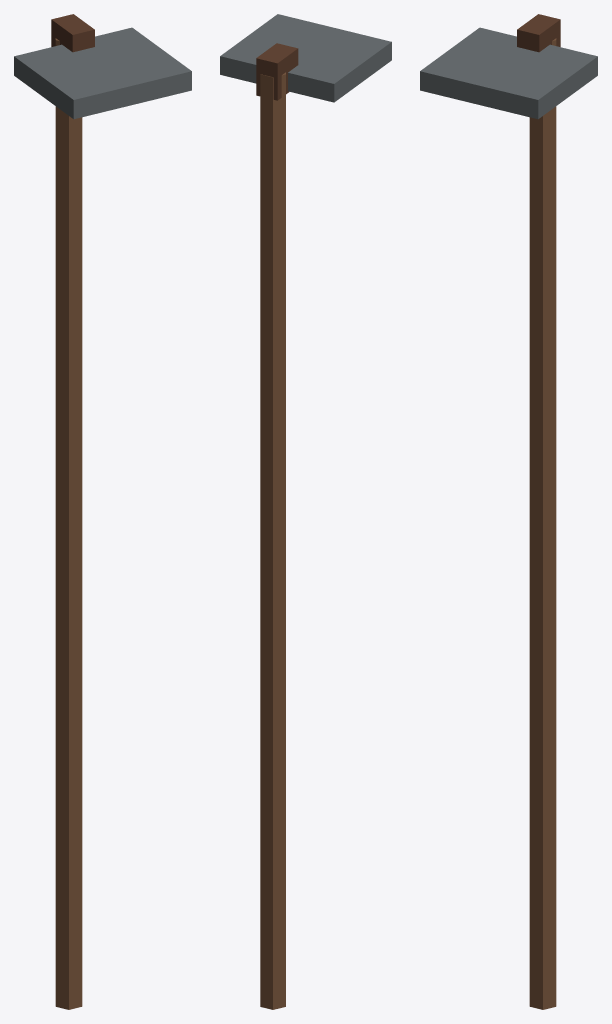
Rendered from hand_hoe.glb.
The picture shows the model from 3 angles, left to right: view 1: azimuth 30°, elevation 25°; view 2: azimuth 150°, elevation 25°; view 3: azimuth 330°, elevation 25°; orthographic projection. The views are drawn at different scales.
Parts seen in each view (by area): view 1: room_hand_hoe; view 2: room_hand_hoe; view 3: room_hand_hoe.
Part boxes in pixels (x1,y1,x2,y2): room_hand_hoe: (14,14,191,1009); room_hand_hoe: (220,14,391,1009); room_hand_hoe: (420,14,597,1009).
Size of the model in its own units: 0.16 by 1.27 by 0.1656.
